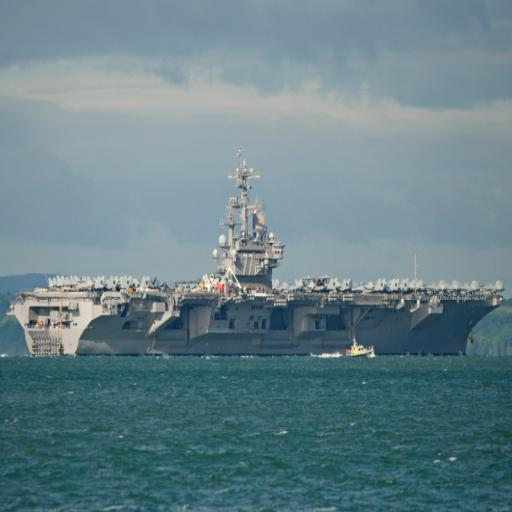Portanaves: (4, 143, 507, 362)
